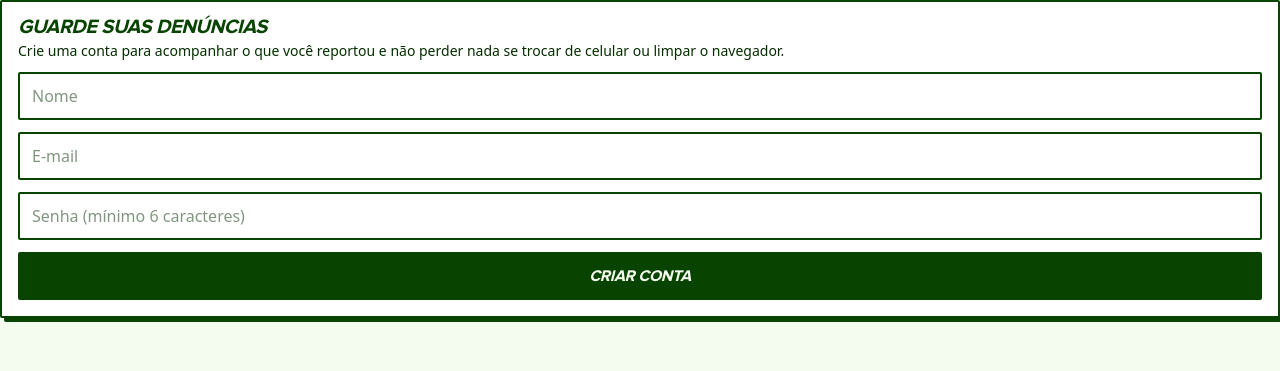
it: VincularConta › mostra o erro devolvido pelo servidor
Type "Maria" into the field labelled "Nome" at coordinates (640, 96), box [18,72,1262,120]
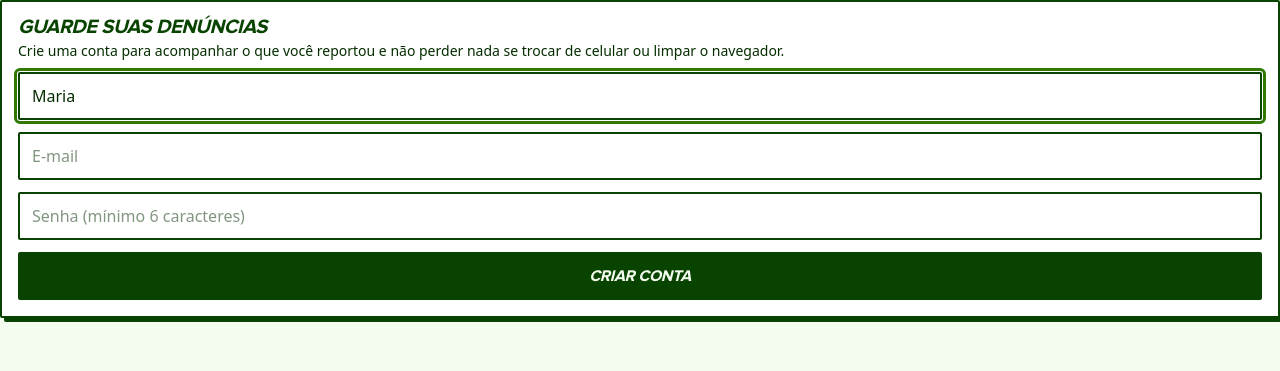
Type "maria@exemplo.com" into the field labelled "E-mail" at coordinates (640, 156), box [18,132,1262,180]
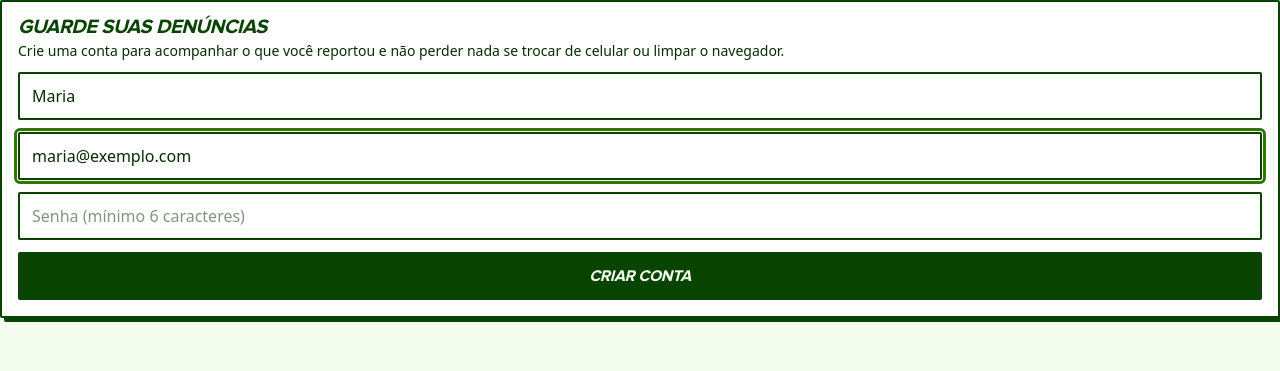
Type "segredo123" into the password field labelled "Senha" at coordinates (640, 216), box [18,192,1262,240]
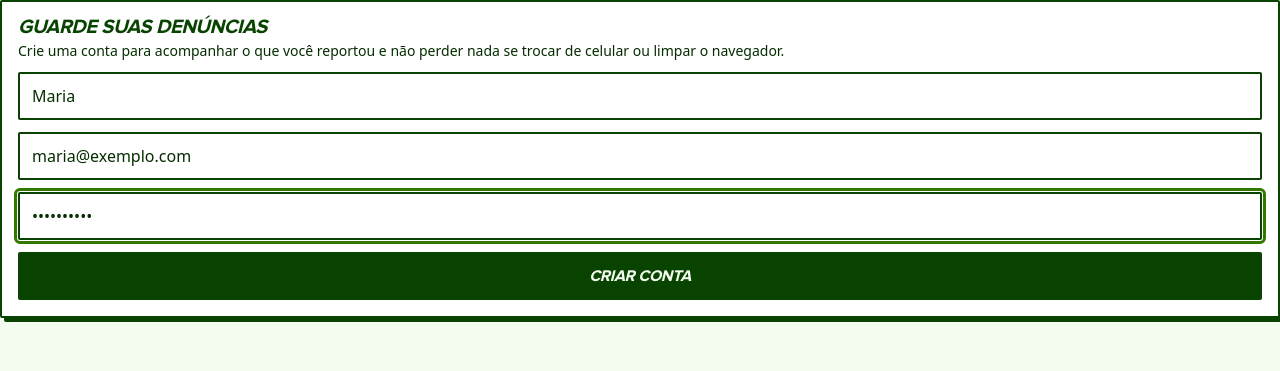
Click the button "Criar conta" at coordinates (640, 276), box [18,252,1262,300]
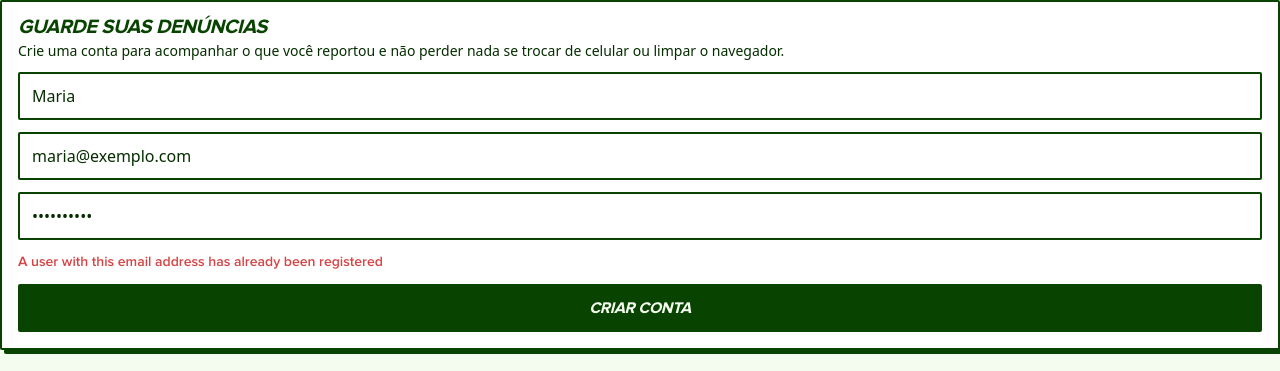
Check: the message shows "already been registered", box [18,253,383,270]
